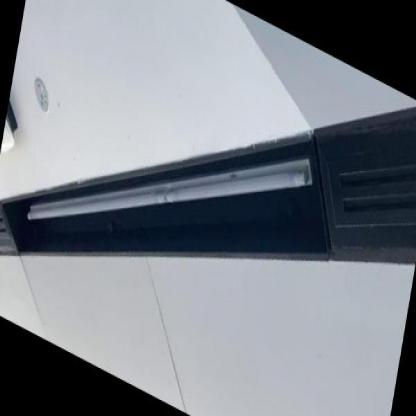light_off: (15, 13, 326, 370)
